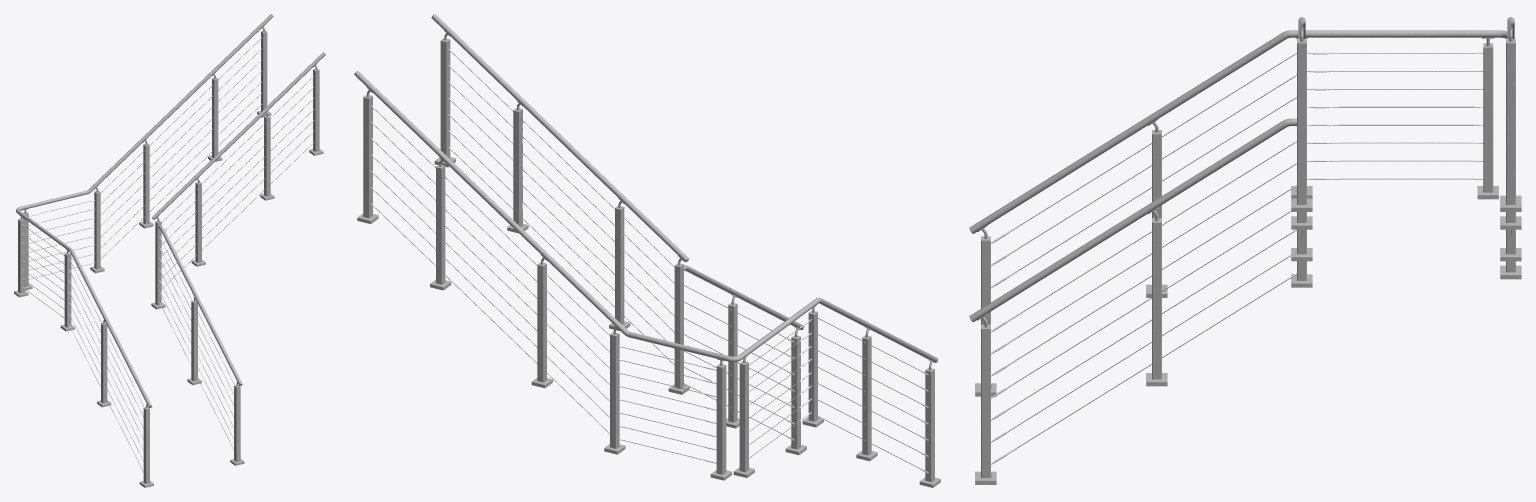
File: L-Shaped_Railing_Koto_Square.gltf
3 views of the same model, side by side, from view 1: azimuth 30°, elevation 25°; view 2: azimuth 150°, elevation 25°; view 3: azimuth 270°, elevation 25° (orthographic). The views are drawn at different scales.
Parts seen in each view (by area): view 1: LS208 & LS209 - Circum Square Post Material LS Material [893 (×15), Nested_Rail LS Material [8461322], Nested_Rail LS Material [8719226], Nested_Bend Bend [8719267]001, Nested_Rail LS Material [8719249], Nested_Bend Bend [8719259]; view 2: LS208 & LS209 - Circum Square Post Material LS Material [893 (×15), Nested_Rail LS Material [8461322], Nested_Rail LS Material [8719226], Nested_Bend Bend [8719267]001, Nested_Bend Bend [8719259], Nested_Rail LS Material [8719249]; view 3: LS208 & LS209 - Circum Square Post Material LS Material [893 (×7), Nested_Bend Bend [8719267]001, Nested_Rail LS Material [8719249], Nested_Bend Bend [8719267].
Part boxes in pixels (x1,y1,x2,y2): LS208 & LS209 - Circum Square Post Material LS Material [893 (×15): [18, 32, 319, 483]; Nested_Rail LS Material [8461322]: [152, 52, 325, 219]; Nested_Rail LS Material [8719226]: [116, 14, 273, 165]; Nested_Bend Bend [8719267]001: [158, 225, 242, 384]; Nested_Rail LS Material [8719249]: [83, 276, 151, 406]; Nested_Bend Bend [8719259]: [47, 164, 117, 203]; LS208 & LS209 - Circum Square Post Material LS Material [893 (×15): [363, 40, 934, 481]; Nested_Rail LS Material [8461322]: [432, 14, 688, 261]; Nested_Rail LS Material [8719226]: [354, 71, 587, 295]; Nested_Bend Bend [8719267]001: [684, 265, 803, 329]; Nested_Bend Bend [8719259]: [584, 292, 688, 351]; Nested_Rail LS Material [8719249]: [838, 308, 937, 362]; LS208 & LS209 - Circum Square Post Material LS Material [893 (×7): [981, 44, 1515, 477]; Nested_Bend Bend [8719267]001: [969, 118, 1296, 321]; Nested_Rail LS Material [8719249]: [969, 64, 1235, 233]; Nested_Bend Bend [8719267]: [1233, 30, 1438, 69].
Size of the model in its own units: 3.05 by 3.48 by 2.79.
